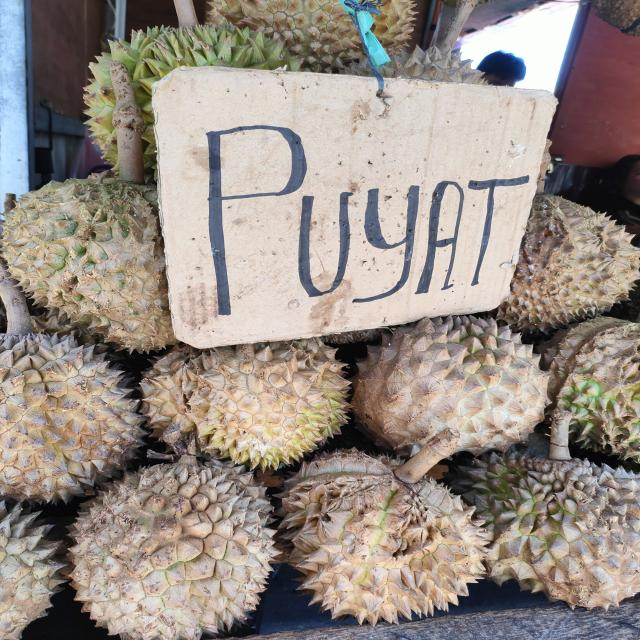mature: (62, 456, 284, 640), (279, 446, 491, 628), (433, 448, 640, 611), (345, 313, 554, 460), (139, 332, 351, 471), (0, 330, 150, 506)
